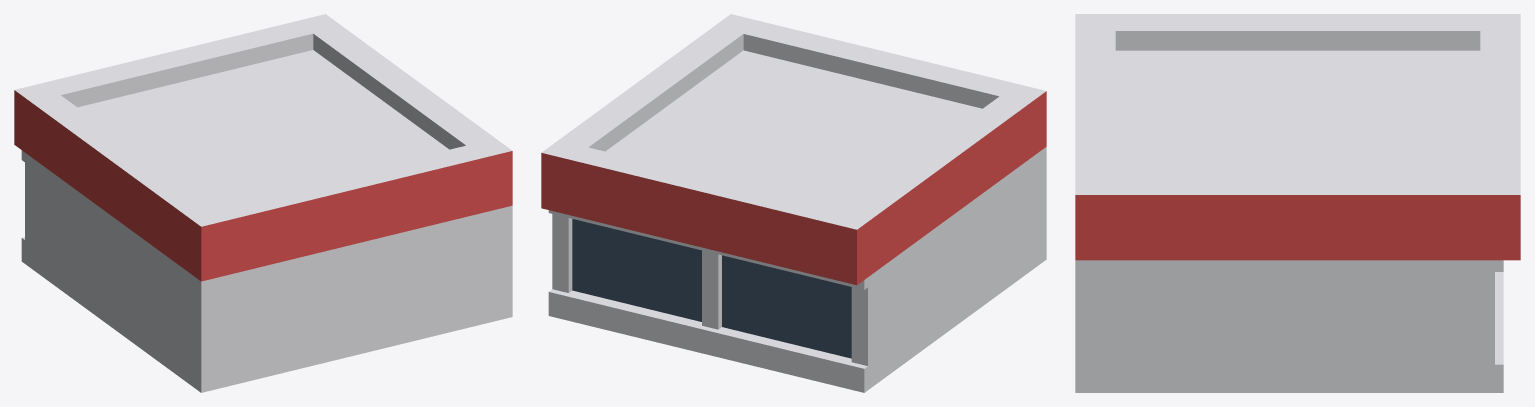
File: kit_pitsOffice.obj
The picture shows the model from 3 angles, left to right: view 1: azimuth 30°, elevation 25°; view 2: azimuth 150°, elevation 25°; view 3: azimuth 270°, elevation 25°; orthographic projection. The views are drawn at different scales.
Parts seen in each view (by area): view 1: pitsOffice; view 2: pitsOffice; view 3: pitsOffice.
Part boxes in pixels (x1,y1,x2,y2): pitsOffice: (14,14,512,392); pitsOffice: (541,14,1046,392); pitsOffice: (1075,14,1520,392).
Size of the model in its own units: 1 by 0.51 by 1.04.
